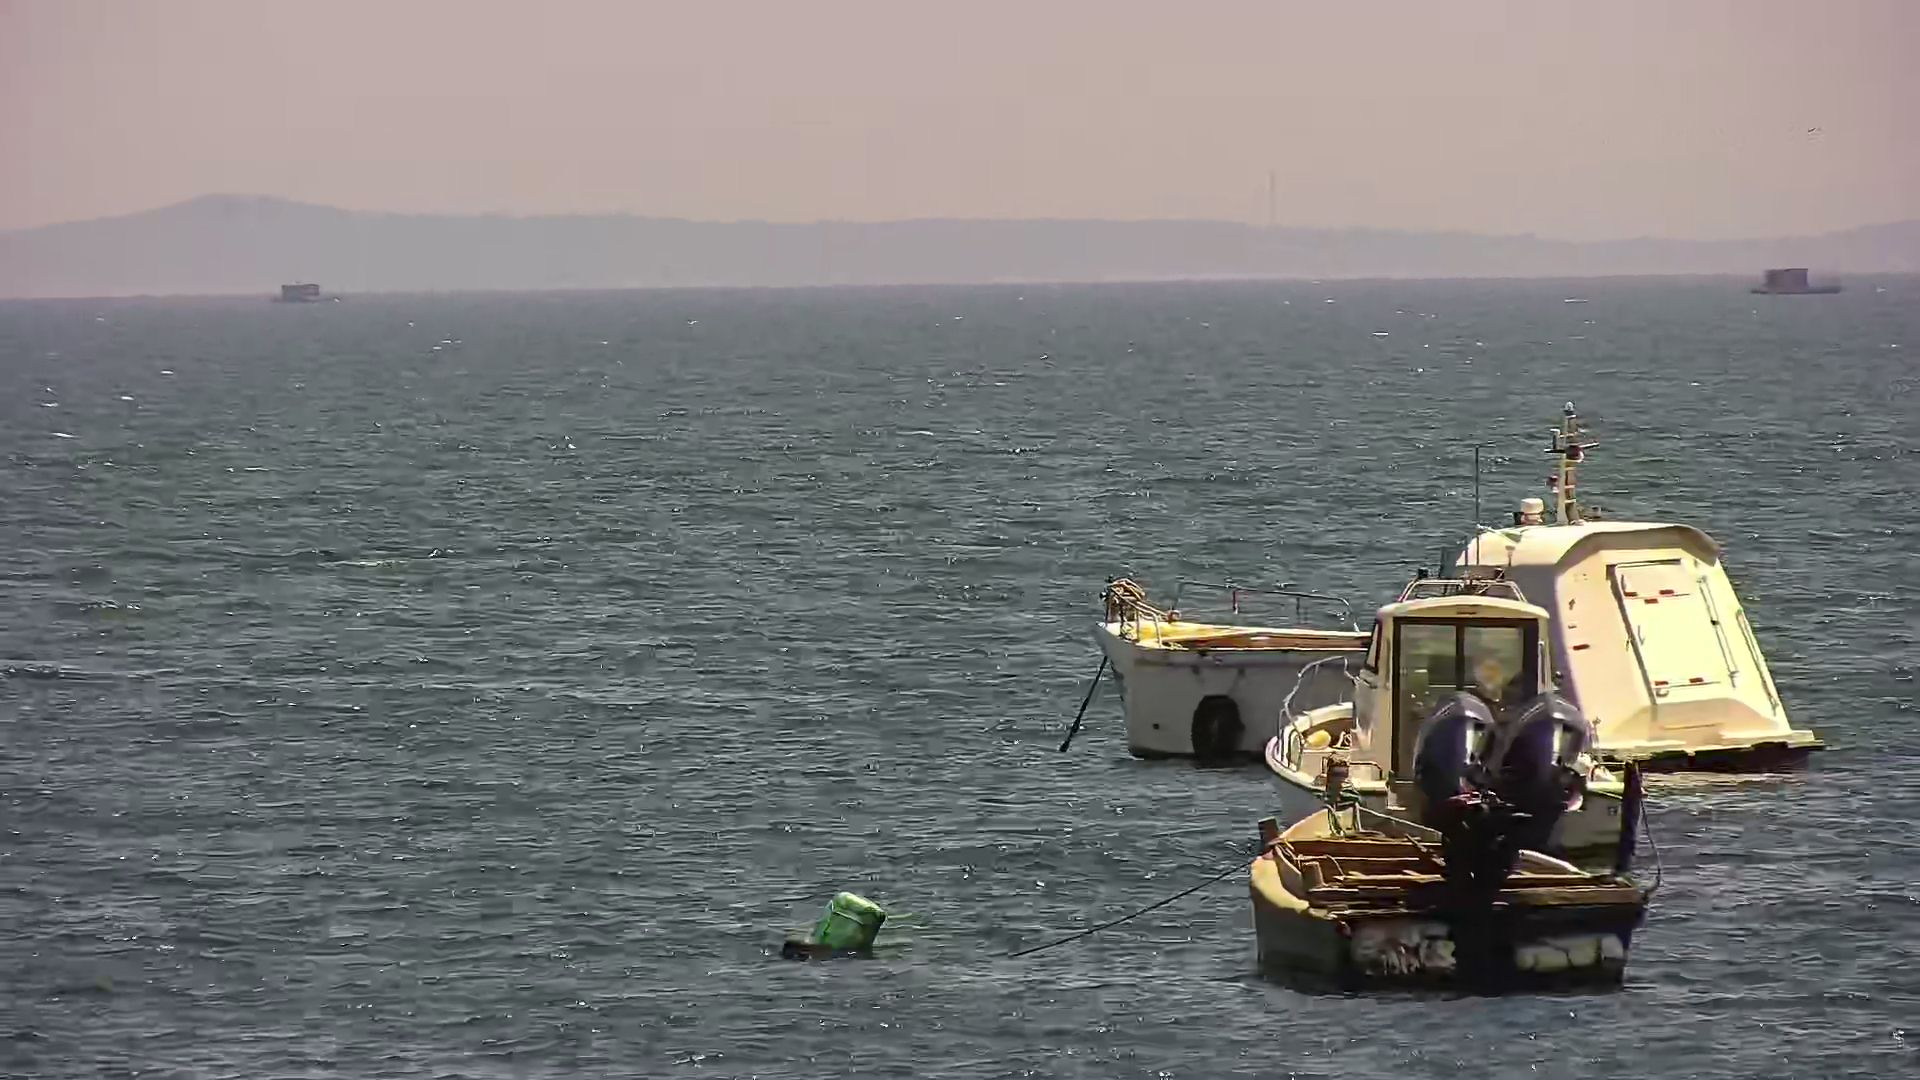boat: (986, 377, 1894, 785), (1257, 425, 1701, 876), (1207, 688, 1692, 1015)
platform: (1721, 247, 1846, 305), (260, 266, 343, 313)
rubbish: (764, 868, 914, 980)
